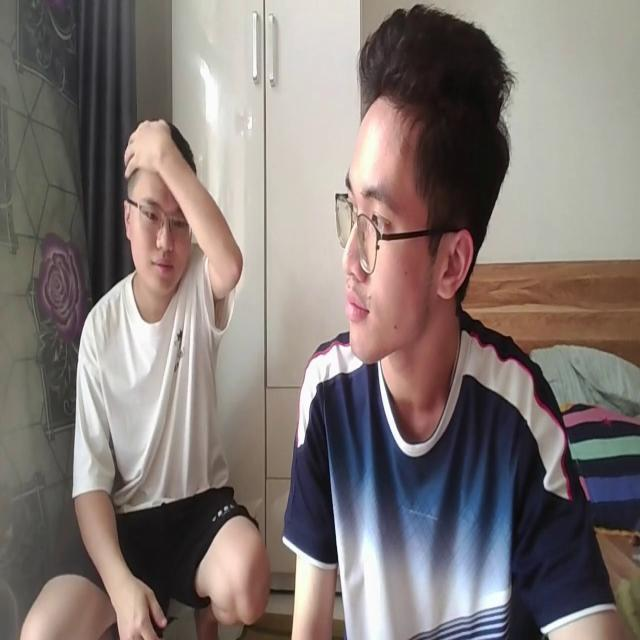extra_person: (19, 108, 271, 640)
student: (284, 6, 624, 640)
